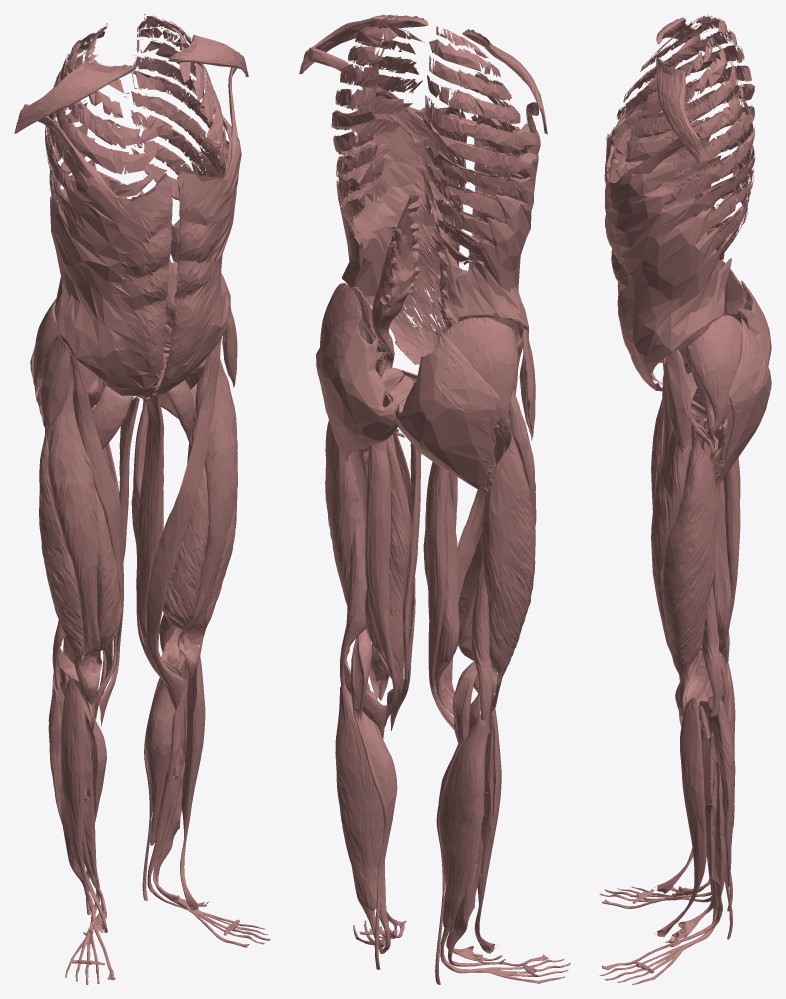
File: muscular-01.glb
The picture shows the model from 3 angles, left to right: view 1: azimuth 30°, elevation 25°; view 2: azimuth 150°, elevation 25°; view 3: azimuth 270°, elevation 25°; orthographic projection. The views are drawn at different scales.
Parts seen in each view (by area): view 1: FJ1452, FJ1452M, FJ1433, FJ1433M, FJ1434M, FJ1454M, FJ1451M, FJ1442, FJ1451, FJ1421M, FJ1434, FJ1439 (+28 smaller); view 2: FJ1452M, FJ1451, FJ1418, FJ1442, FJ1452, FJ1437M, FJ1418M, FJ1451M, FJ1437, FJ1436M, FJ1435M, FJ1454M (+30 smaller); view 3: FJ1452M, FJ1451M, FJ1442M, FJ1418M, FJ1433M, FJ1439M, FJ1454, FJ1419M, FJ1435M, FJ1437M, FJ1454M, FJ1415M (+20 smaller).
Part boxes in pixels (x1,y1,x2,y2): FJ1452: [50, 148, 172, 399]; FJ1452M: [153, 115, 241, 395]; FJ1433: [48, 362, 102, 704]; FJ1433M: [177, 346, 237, 680]; FJ1434M: [146, 337, 221, 707]; FJ1454M: [143, 34, 228, 199]; FJ1451M: [131, 14, 228, 200]; FJ1442: [39, 425, 89, 702]; FJ1451: [45, 23, 132, 193]; FJ1421M: [136, 392, 182, 677]; FJ1434: [68, 350, 123, 726]; FJ1439: [61, 678, 107, 932]; FJ1452M: [336, 88, 466, 364]; FJ1451: [422, 26, 526, 258]; FJ1418: [395, 332, 503, 494]; FJ1442: [482, 426, 535, 714]; FJ1452: [451, 114, 540, 337]; FJ1437M: [335, 684, 397, 910]; FJ1418M: [316, 312, 397, 461]; FJ1451M: [331, 16, 424, 232]; FJ1437: [438, 713, 487, 928]; FJ1436M: [365, 441, 398, 726]; FJ1435M: [365, 434, 411, 705]; FJ1454M: [333, 46, 422, 230]; FJ1452M: [605, 144, 731, 391]; FJ1451M: [625, 34, 755, 260]; FJ1442M: [662, 423, 717, 714]; FJ1418M: [711, 318, 771, 486]; FJ1433M: [651, 373, 697, 715]; FJ1439M: [654, 697, 706, 937]; FJ1454: [623, 32, 752, 207]; FJ1419M: [686, 315, 741, 433]; FJ1435M: [685, 425, 731, 702]; FJ1437M: [701, 697, 735, 887]; FJ1454M: [623, 83, 753, 251]; FJ1415M: [602, 761, 726, 969].
Size of the model in its own units: 0.3885 by 1.44 by 0.2463.
